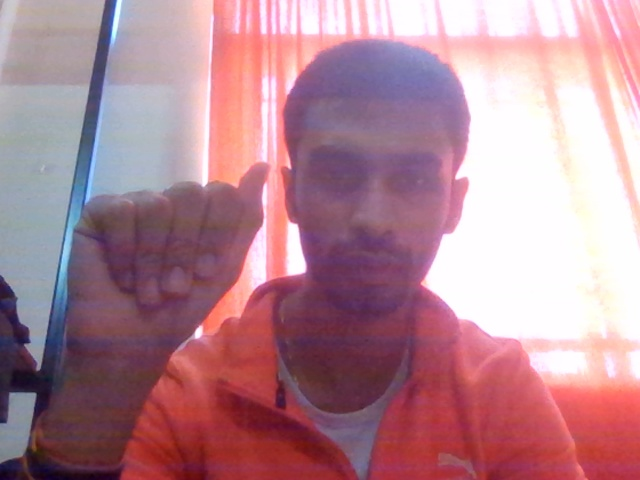A: (66, 116, 273, 441)
